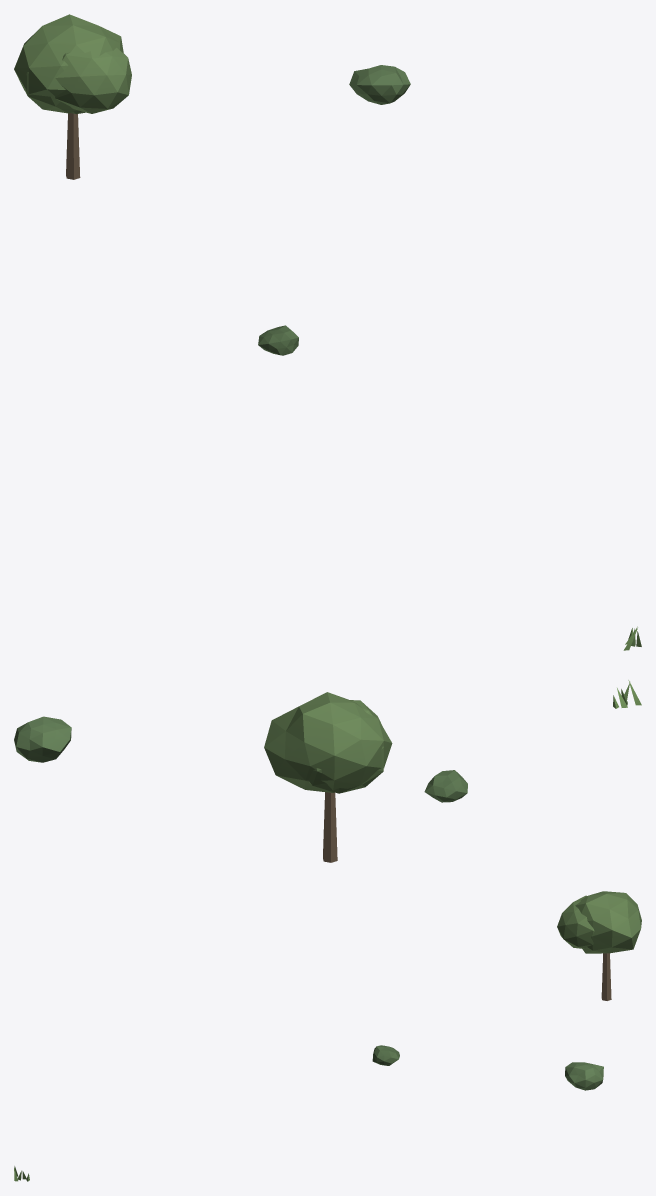
File: arch_land_scatter_c22_19.glb
3 views of the same model, one above another, from view 1: azimuth 30°, elevation 25°; view 2: azimuth 150°, elevation 25°; view 3: azimuth 270°, elevation 25° (orthographic). The views are drawn at different scales.
Parts seen in each view (by area): view 1: arch_land_scatter_c22_19; view 2: arch_land_scatter_c22_19; view 3: arch_land_scatter_c22_19.
Part boxes in pixels (x1=…): arch_land_scatter_c22_19: x1=14, y1=14, x2=641, y2=650; arch_land_scatter_c22_19: x1=14, y1=680, x2=641, y2=862; arch_land_scatter_c22_19: x1=14, y1=891, x2=641, y2=1181.
Size of the model in its own units: 15.41 by 13.87 by 33.03.
